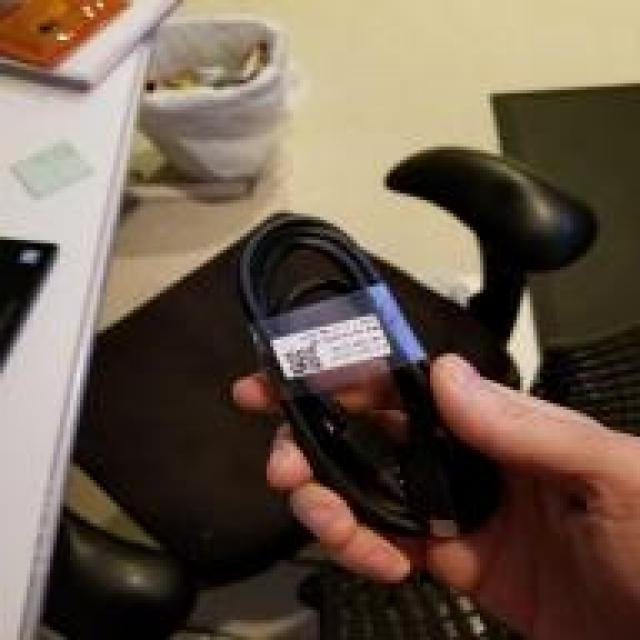qr_code: (283, 343, 323, 376)
